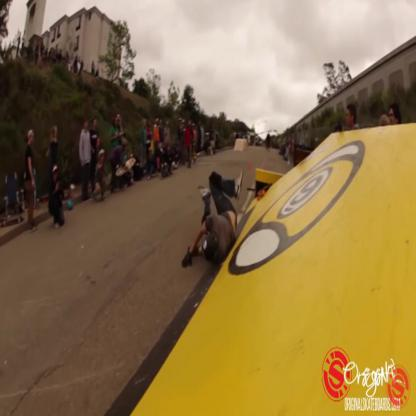Fall_Down: (181, 171, 247, 272)
